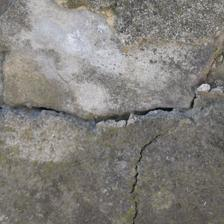Crack: (70, 28, 134, 139), (183, 1, 214, 87)
